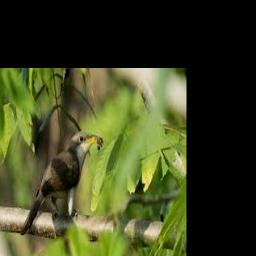Cuckoo: (20, 132, 102, 235)
